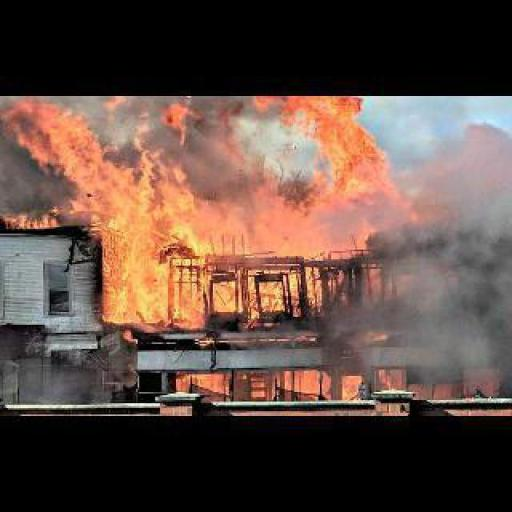smoke: (10, 96, 402, 330), (356, 122, 510, 390)
